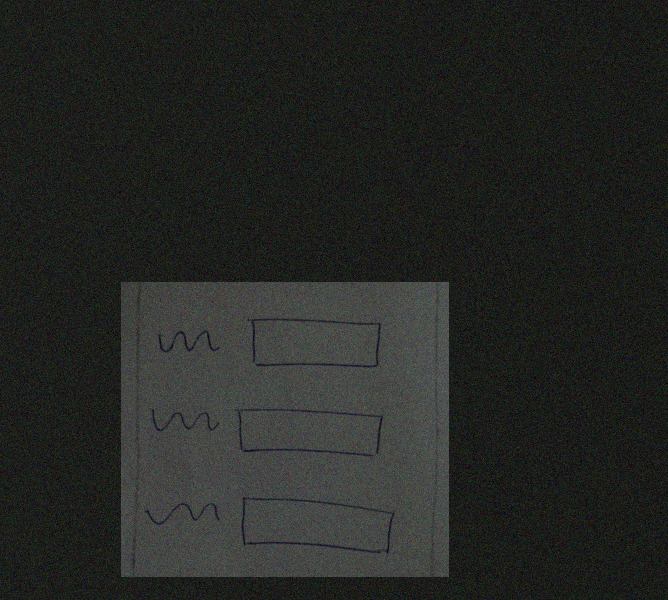text: (147, 401, 225, 437), (141, 498, 222, 531), (154, 324, 220, 360)
text_input: (239, 495, 399, 555), (244, 313, 385, 372), (232, 407, 385, 460)
